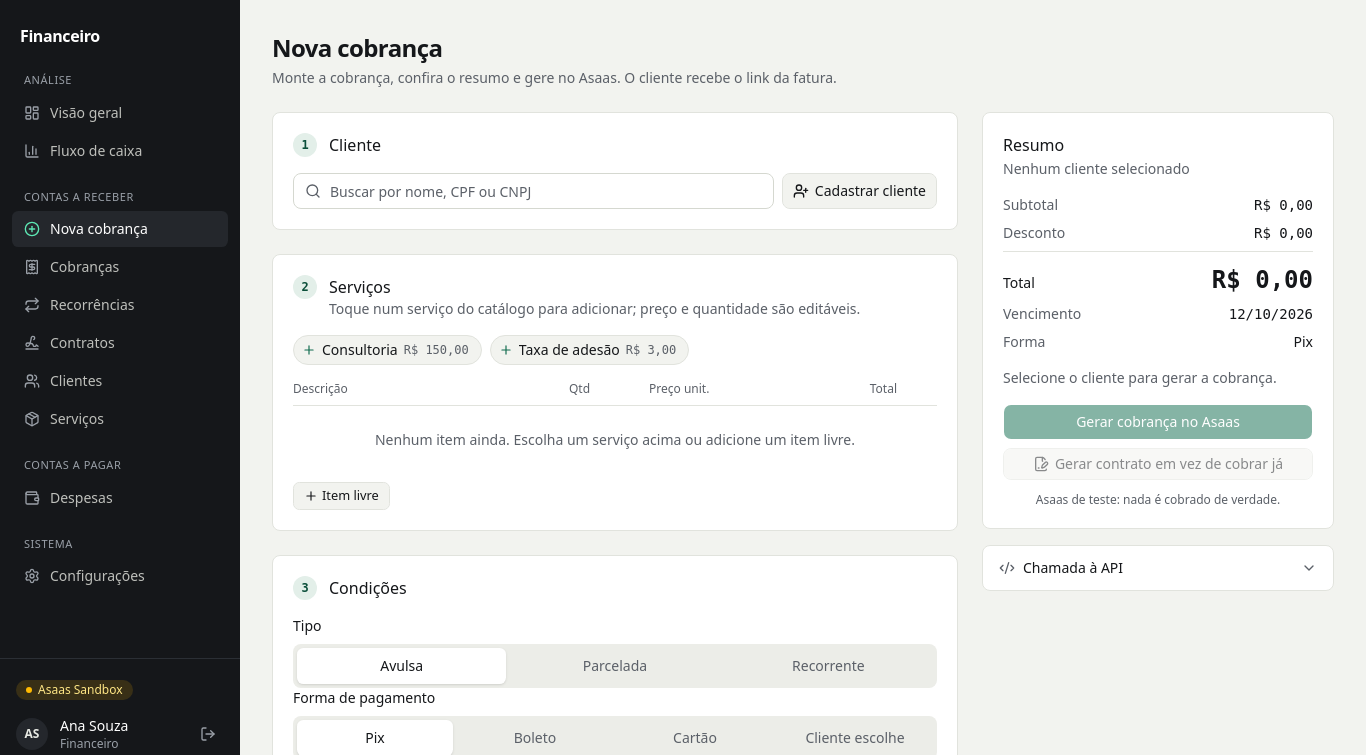
[COB-01][COB-02][COB-12] Nova cobrança › [COB-03.1][COB-04.1] parcelada lista as parcelas somando o total; recorrente pede o ciclo
Click the dropdown named "Buscar cliente" at (533, 191), box top-left (293, 173), bottom-right (774, 209)
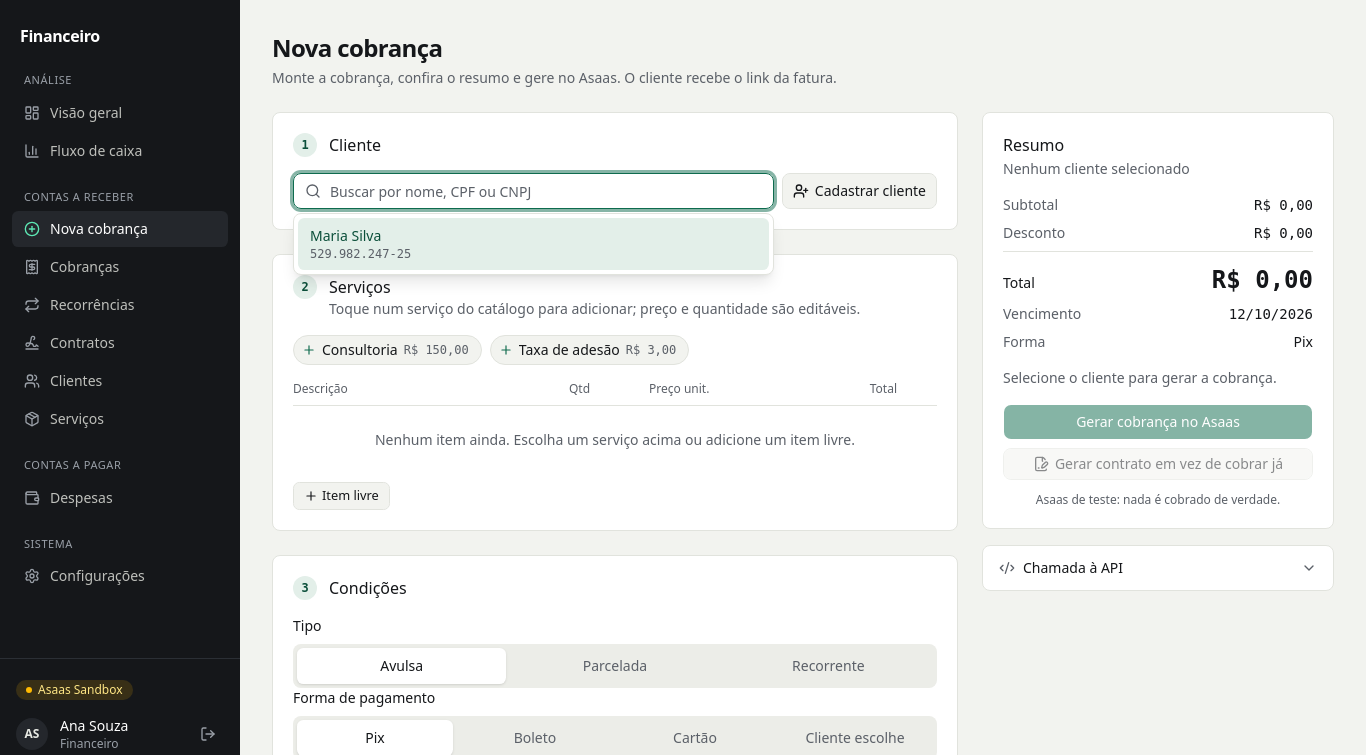
Click the option "Maria Silva 529.982.247-25" at (346, 236), box top-left (298, 218), bottom-right (769, 270)
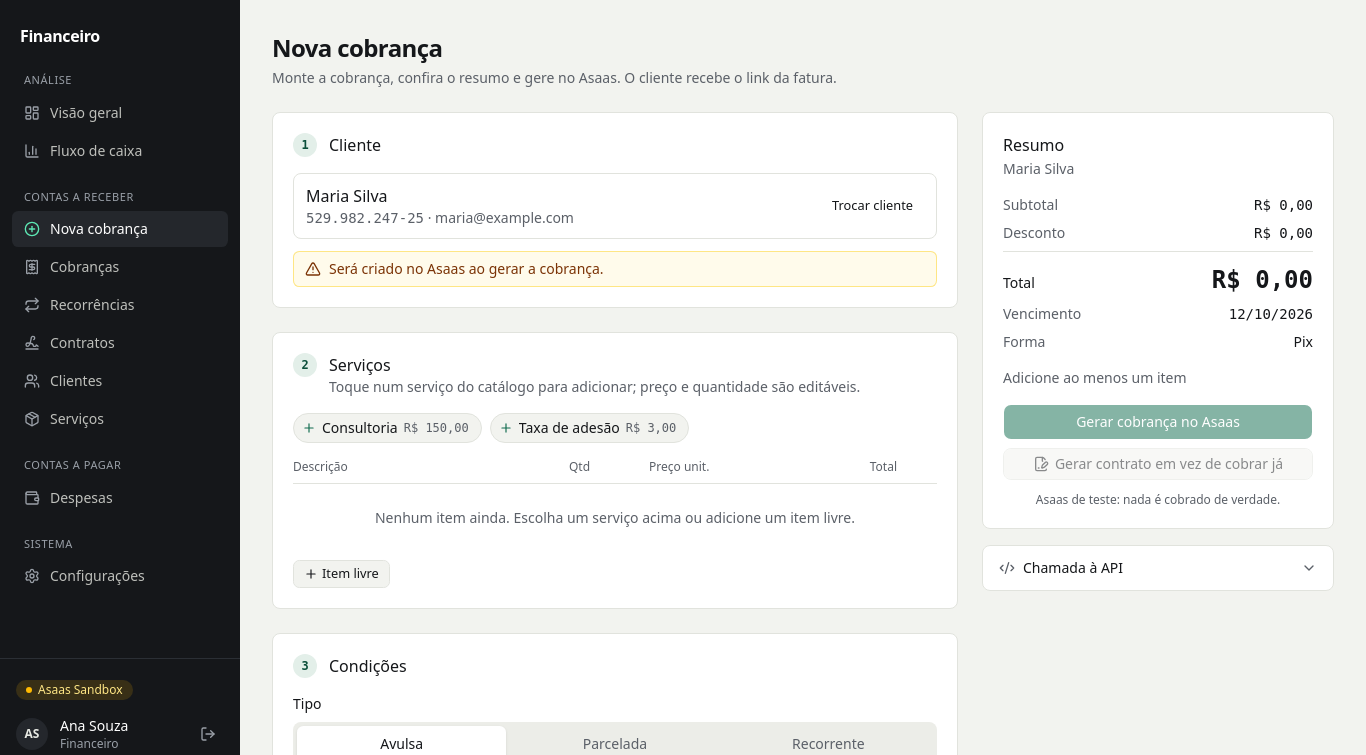
Click the button "Consultoria R$ 150,00" at (387, 428), box top-left (293, 413), bottom-right (482, 443)
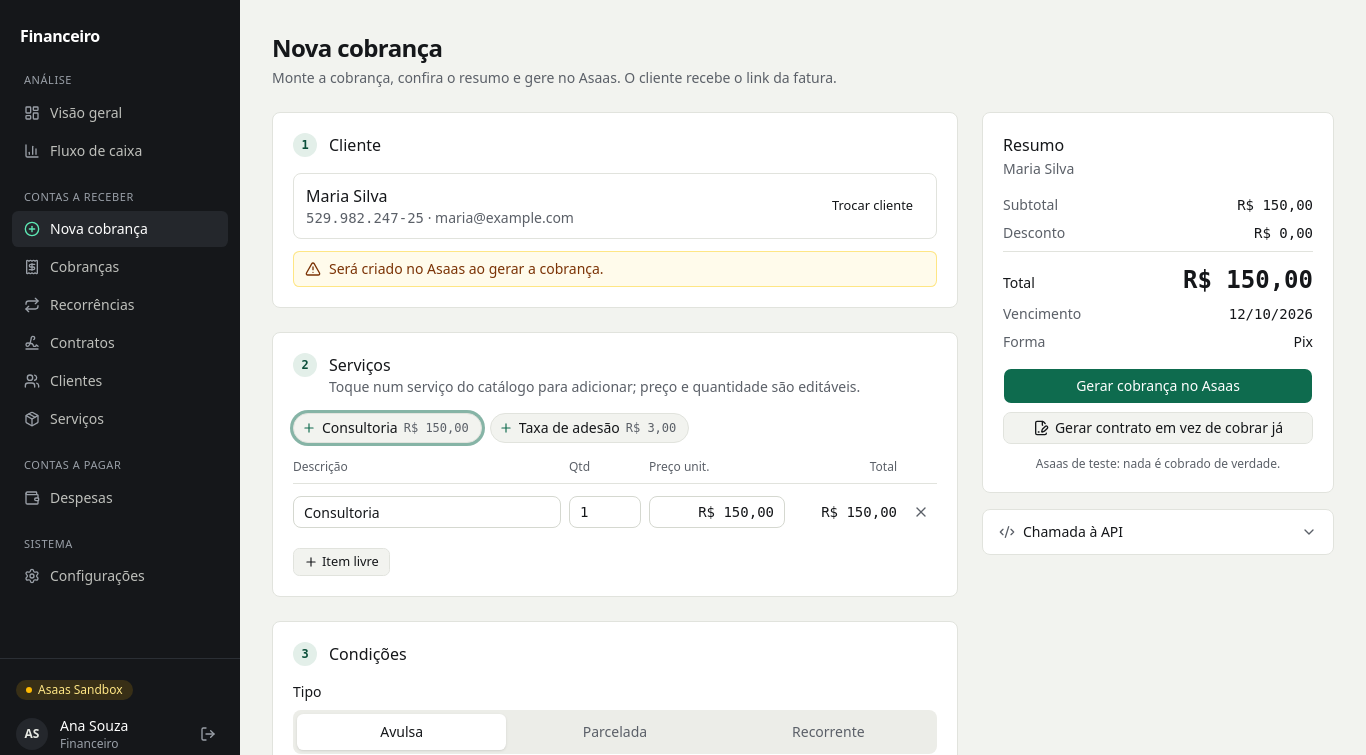
Click the button "Consultoria R$ 150,00" at (387, 428), box top-left (293, 413), bottom-right (482, 443)
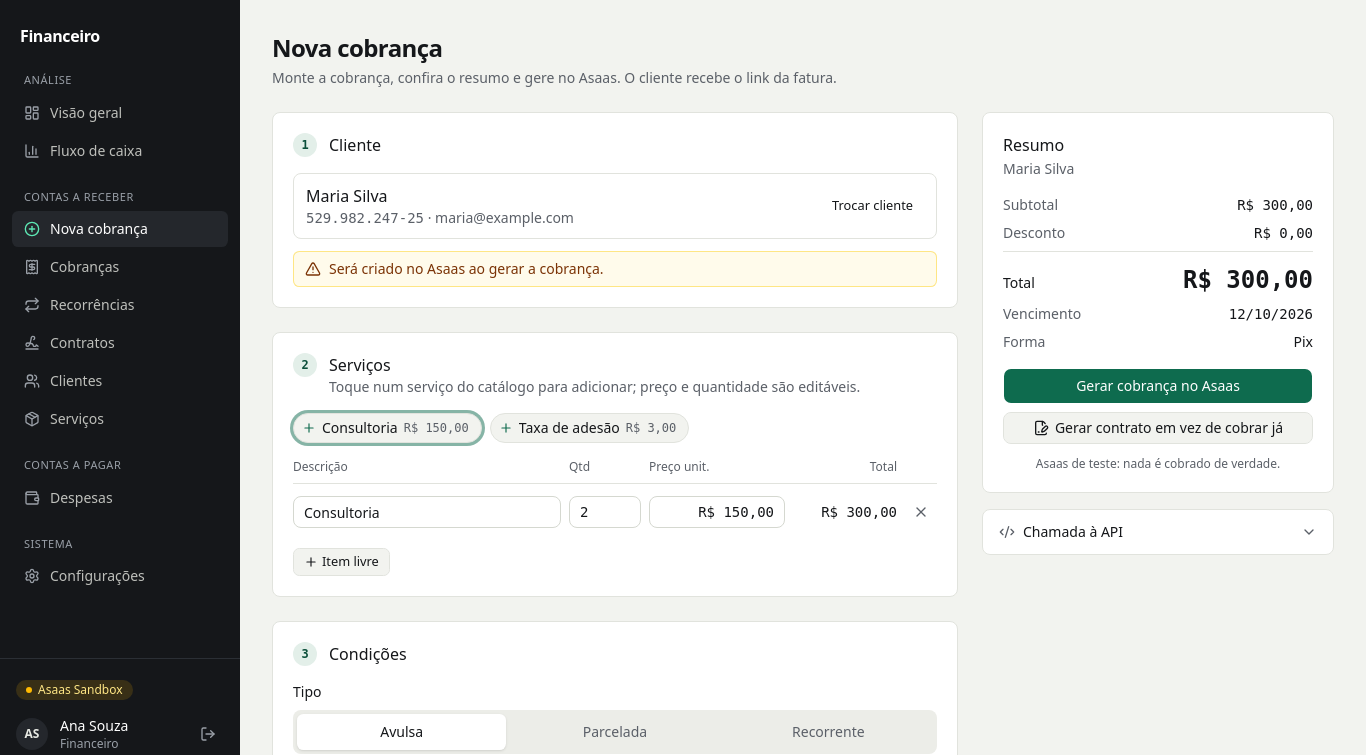
Click the radio button labelled "Parcelada" at (615, 732), box top-left (583, 722), bottom-right (647, 741)
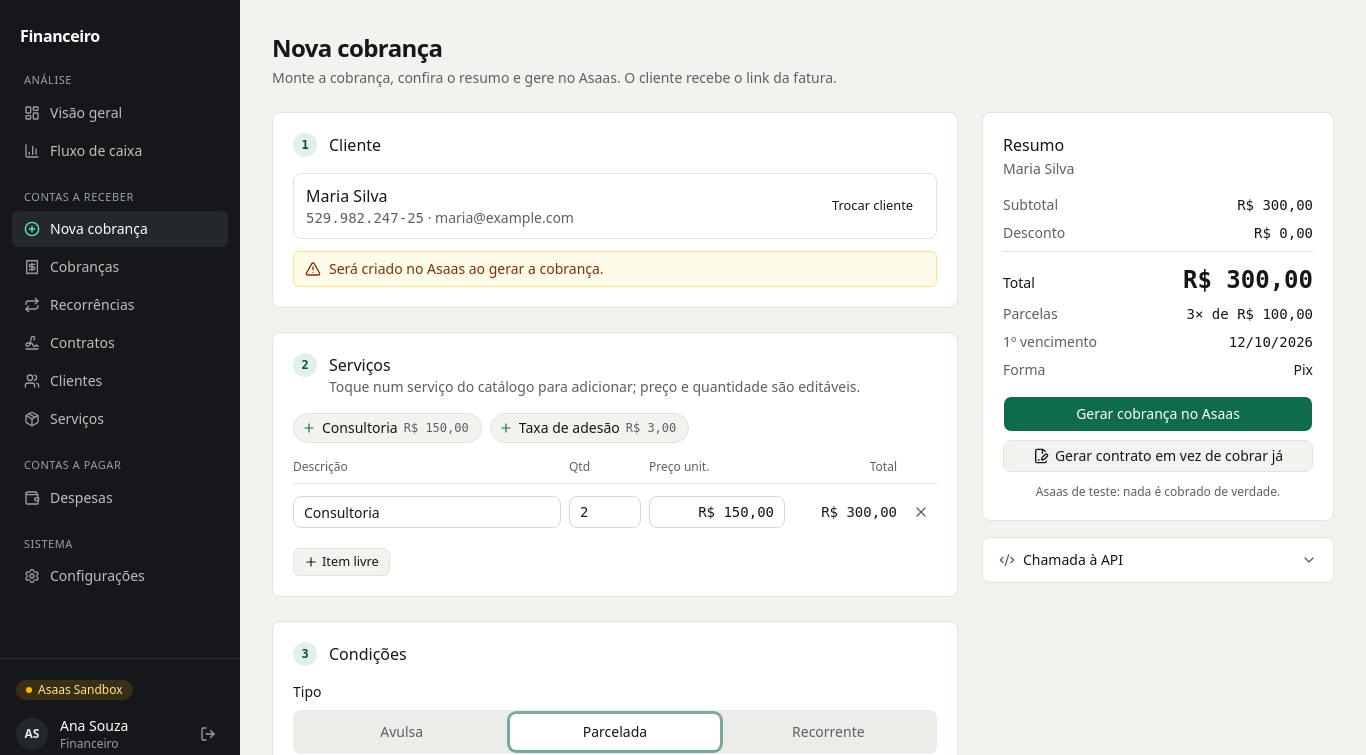
Expected: the text "3× de R$ 100,00" is shown, top-left (1186, 304), bottom-right (1313, 324)
Click the radio button labelled "Recorrente" at (828, 732), box top-left (792, 722), bottom-right (865, 741)
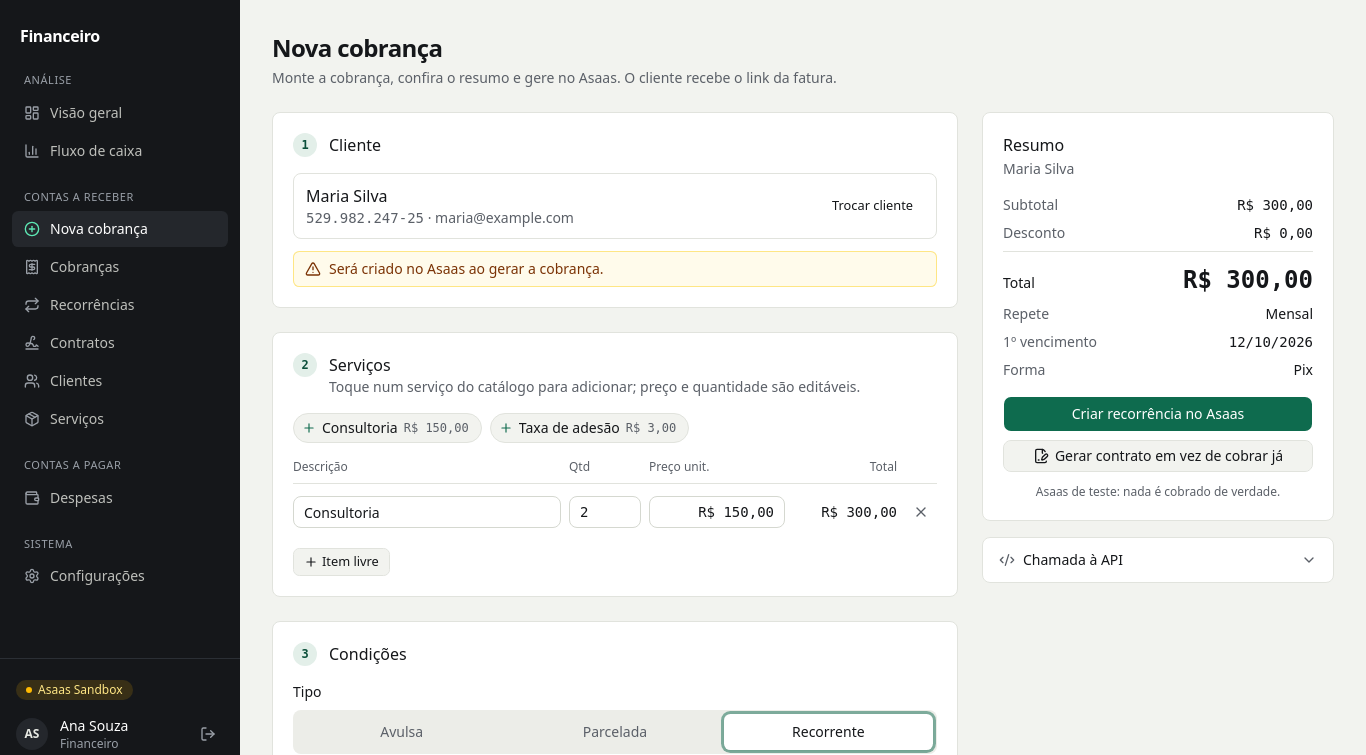
Expected: the button "Criar recorrência no Asaas" is enabled, top-left (1003, 396), bottom-right (1313, 432)
Expected: the text "Mensal" is shown, top-left (1266, 304), bottom-right (1313, 323)
